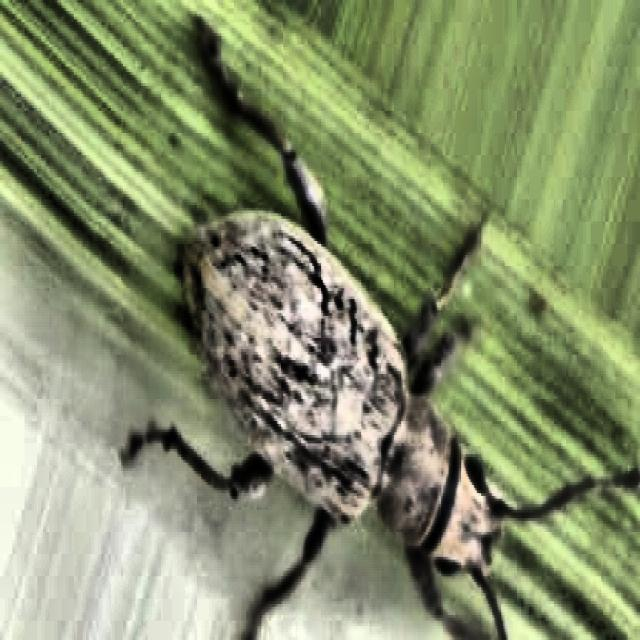Stink bug: (122, 90, 617, 640)
